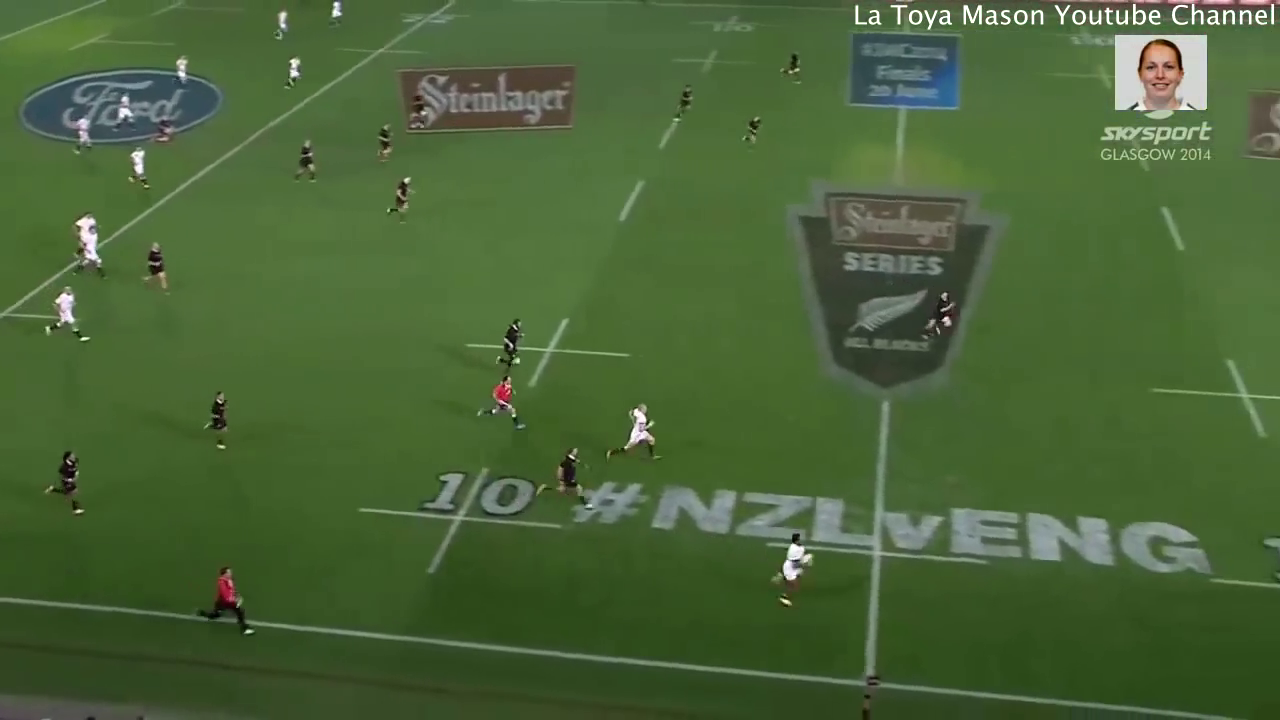10_metre: (354, 460, 570, 579), (454, 304, 638, 390), (1138, 345, 1280, 452), (1192, 497, 1280, 602), (675, 9, 771, 39), (666, 43, 756, 75)
player: (600, 396, 671, 471), (529, 441, 594, 515), (193, 563, 256, 636), (765, 526, 816, 612), (40, 282, 99, 349), (473, 373, 535, 436), (915, 276, 967, 351), (42, 444, 89, 519), (485, 310, 531, 380), (193, 385, 237, 456), (378, 168, 423, 232), (285, 131, 325, 188), (138, 242, 174, 300), (62, 205, 98, 258), (75, 228, 109, 284), (122, 143, 156, 198), (108, 88, 141, 138), (669, 78, 699, 131), (368, 117, 398, 169), (264, 1, 299, 43), (404, 89, 435, 136), (734, 111, 770, 150), (66, 112, 96, 157), (776, 45, 808, 87), (276, 49, 306, 91), (151, 109, 178, 153), (171, 45, 194, 91), (324, 1, 350, 29)
